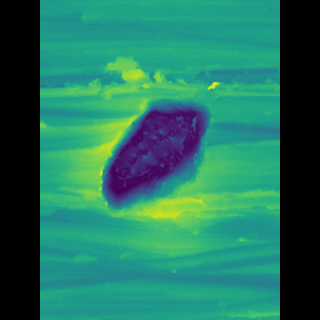Loch: (68, 236, 250, 320), (112, 86, 200, 220), (69, 57, 249, 97)
